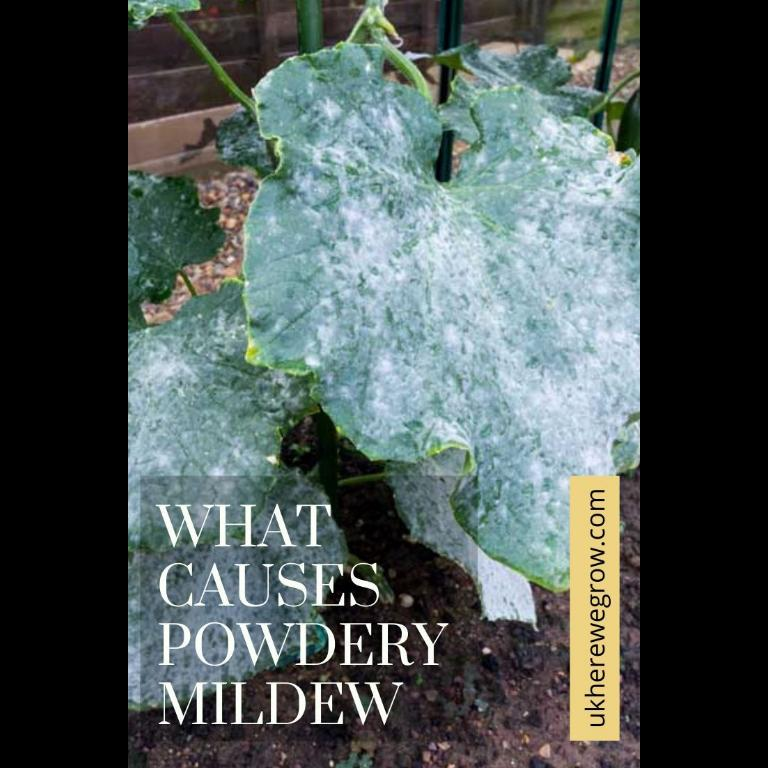powdery-mildew: (326, 184, 630, 350)
